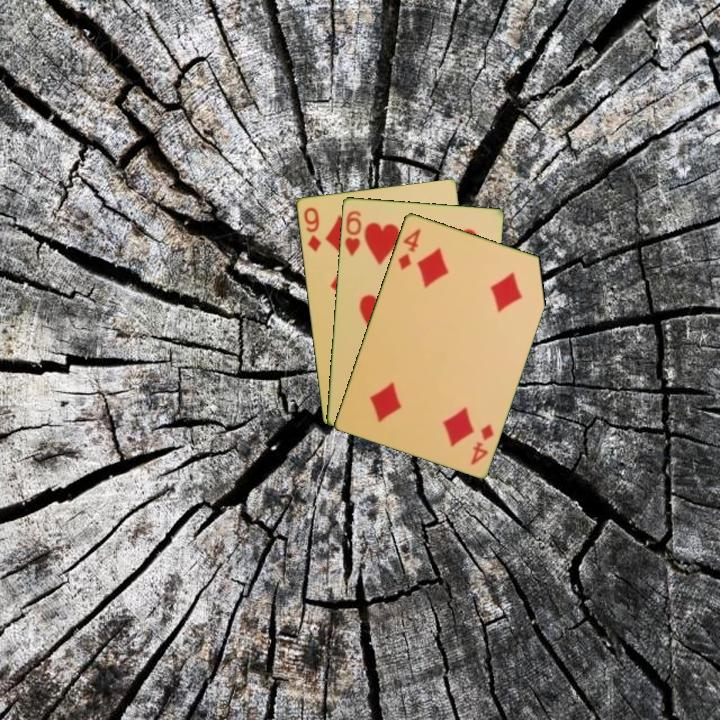4d: (467, 420, 497, 468), (394, 225, 423, 273)
6h: (341, 207, 364, 259)
9d: (300, 204, 323, 254)
